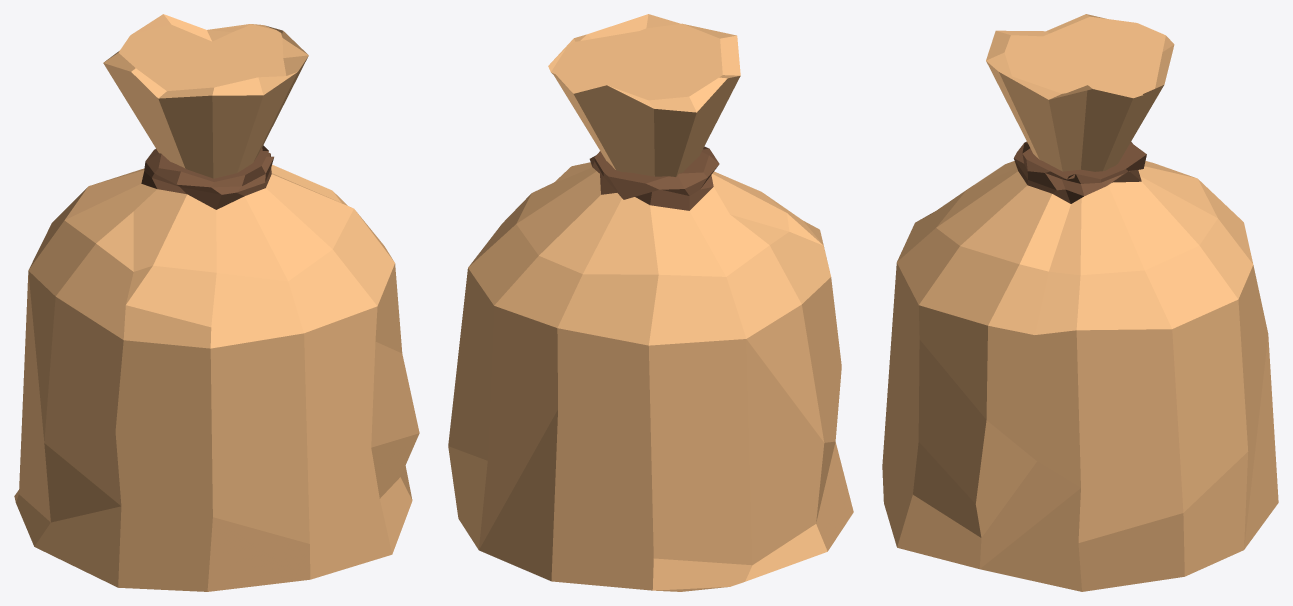
File: cc_sack1.fbx
3 views of the same model, side by side, from view 1: azimuth 30°, elevation 25°; view 2: azimuth 150°, elevation 25°; view 3: azimuth 270°, elevation 25° (orthographic).
Parts seen in each view (by area): view 1: Cylinder; view 2: Cylinder; view 3: Cylinder.
Boxes of the visible parts, x1=… form: Cylinder: x1=14, y1=14, x2=419, y2=591; Cylinder: x1=448, y1=14, x2=853, y2=591; Cylinder: x1=882, y1=14, x2=1278, y2=591.
Bounding box in the file's own units: 216 × 298 × 216.
